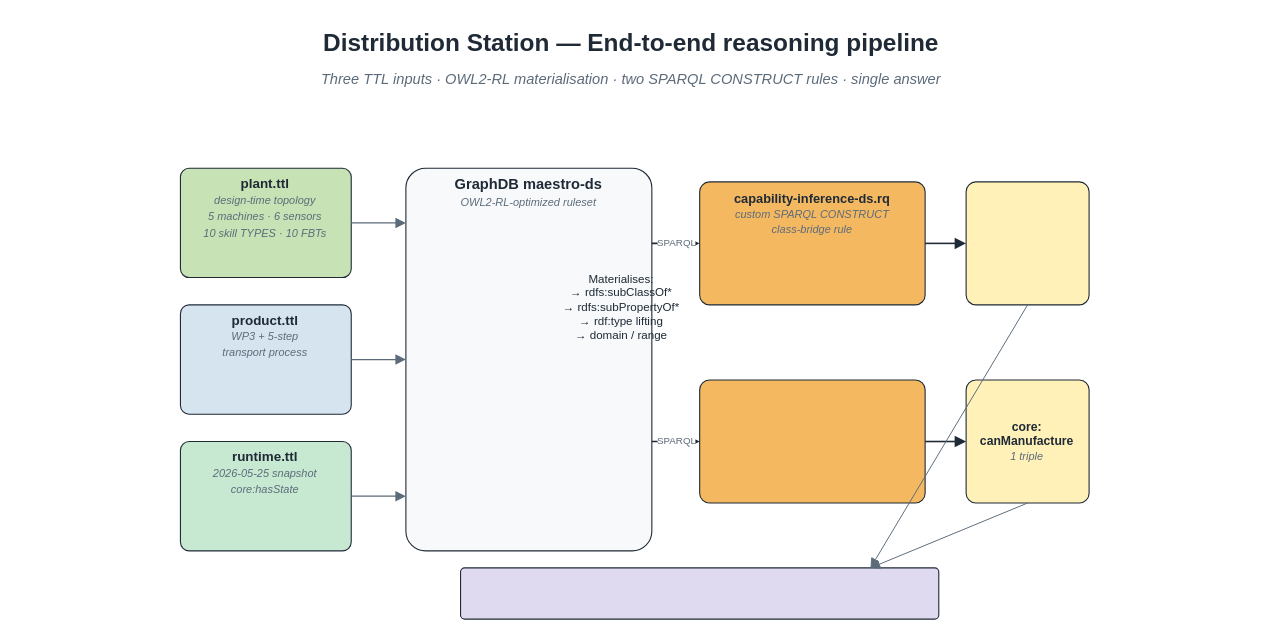
The diagram is 1261 pixels wide and 641 high, and some of its shapes have lost their labels. Each missing label, with the centre of its shape:
core: canPerform 3 triples: point 1027,243
manufacturing-ability.rq MAESTRO library rule SPARQL CONSTRUCT: point 812,441
Orchestrator / LLM: "can DistributingStation1 manufacture WP3?": point 699,593
